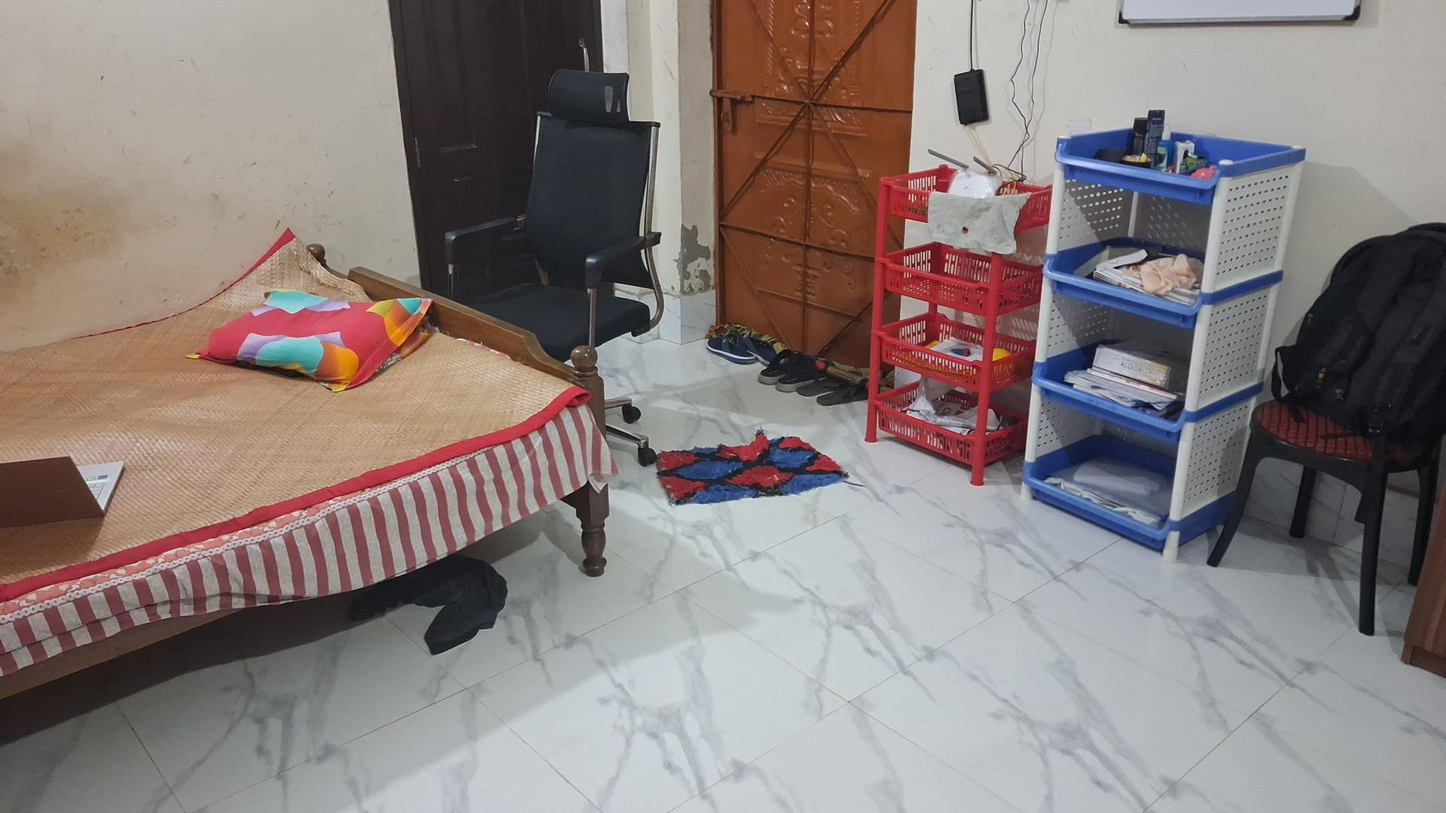Chair: (447, 108, 665, 462), (1206, 393, 1443, 637)
Door: (713, 7, 910, 326)
Floor Mat: (1276, 208, 1446, 426), (623, 433, 872, 506)
Footwear: (758, 354, 829, 388), (800, 373, 870, 407), (702, 332, 773, 364)
Laptop: (0, 431, 123, 529)
Pillow: (177, 282, 441, 385)
Rack: (1022, 80, 1286, 587), (856, 152, 1048, 498)
